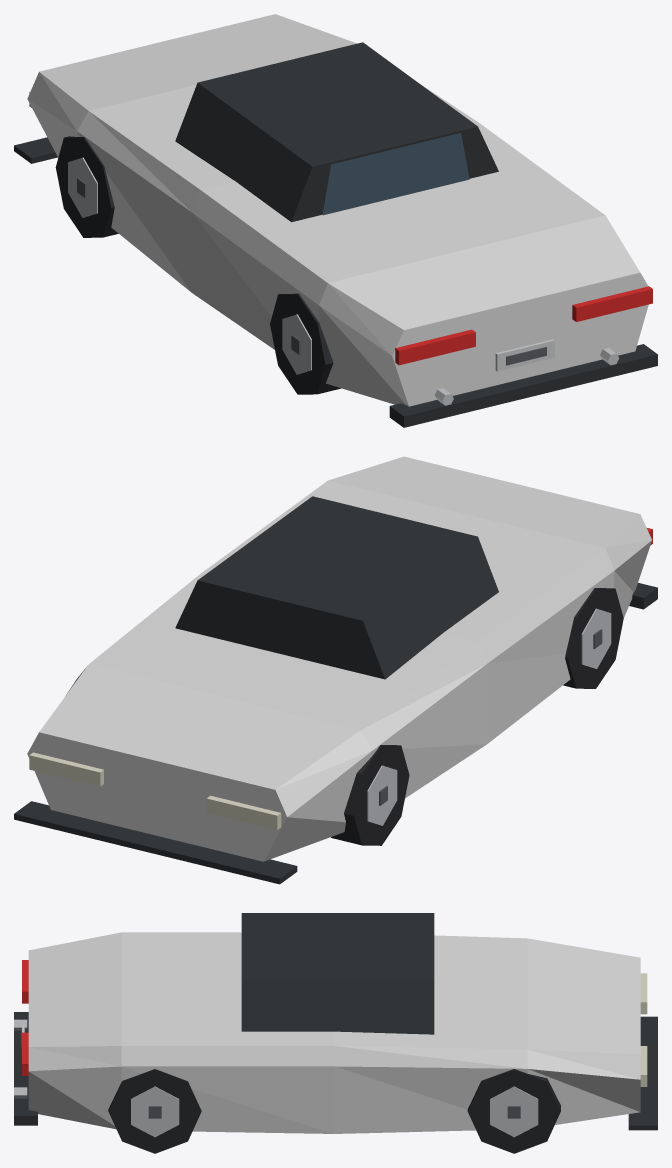
Rendered from custom_vehicle.glb.
3 renders of one model, top to bottom at view 1: azimuth 30°, elevation 25°; view 2: azimuth 150°, elevation 25°; view 3: azimuth 270°, elevation 25°, orthographic. The views are drawn at different scales.
Parts seen in each view (by area): view 1: Body, Wheel_RL, Wheel_FL; view 2: Body, Wheel_FL, Wheel_RL; view 3: Body, Wheel_FR, Wheel_RR.
Part boxes in pixels (<box>): Body: <box>14,14,657,427</box>; Wheel_RL: <box>270,293,341,394</box>; Wheel_FL: <box>55,136,118,237</box>; Body: <box>14,456,657,884</box>; Wheel_FL: <box>331,745,409,845</box>; Wheel_RL: <box>563,588,623,688</box>; Body: <box>14,913,657,1133</box>; Wheel_FR: <box>467,1069,560,1153</box>; Wheel_RR: <box>108,1069,201,1153</box>.
Size of the model in its own units: 2.21 by 1.21 by 4.84.
